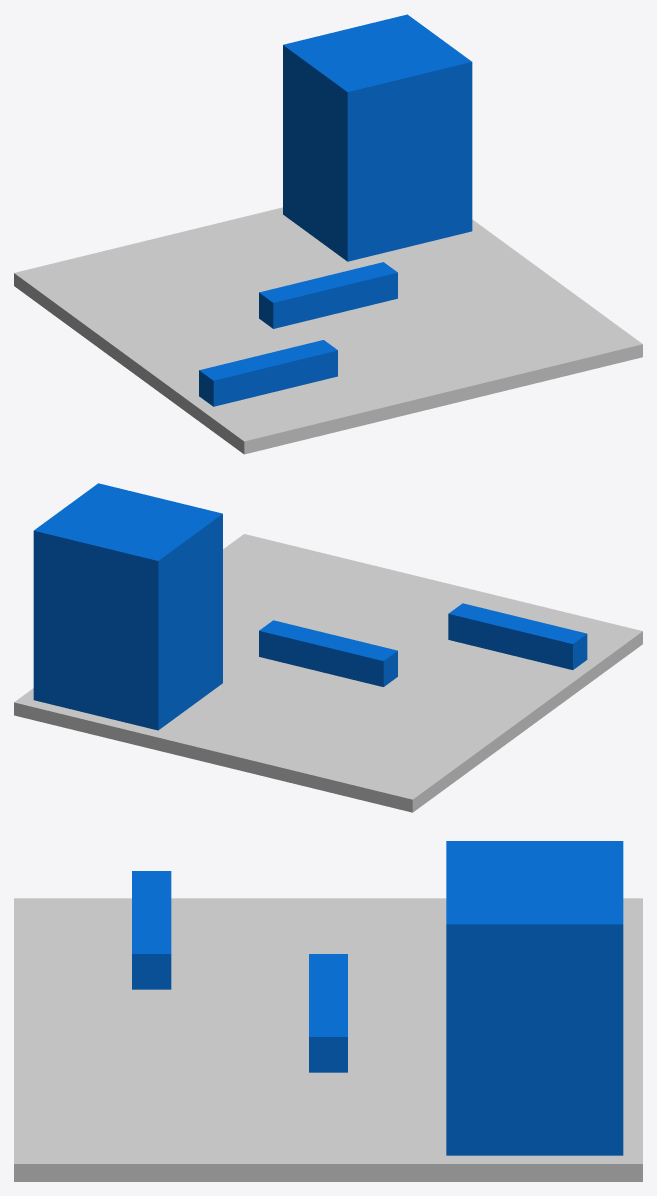
File: world.fbx
3 renders of one model, top to bottom at view 1: azimuth 30°, elevation 25°; view 2: azimuth 150°, elevation 25°; view 3: azimuth 270°, elevation 25°, orthographic. The views are drawn at different scales.
Visible parts, largest first — view 1: Plane, Cube.002, Cube, Cube.001; view 2: Plane, Cube.002, Cube.001, Cube; view 3: Plane, Cube.002, Cube.001, Cube.
Boxes of the visible parts, x1,y1,x2,y2 form: Plane: [14, 207, 642, 454]; Cube.002: [283, 14, 472, 261]; Cube: [259, 262, 397, 328]; Cube.001: [199, 340, 337, 406]; Plane: [14, 534, 642, 812]; Cube.002: [33, 483, 222, 730]; Cube.001: [448, 603, 587, 669]; Cube: [259, 620, 397, 686]; Plane: [14, 898, 642, 1181]; Cube.002: [446, 841, 623, 1155]; Cube.001: [132, 871, 171, 989]; Cube: [309, 954, 347, 1072].
Bounding box in the file's own units: 32 × 14 × 32.
